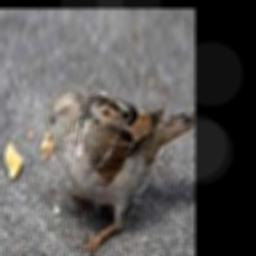Sparrow: (37, 87, 195, 254)
